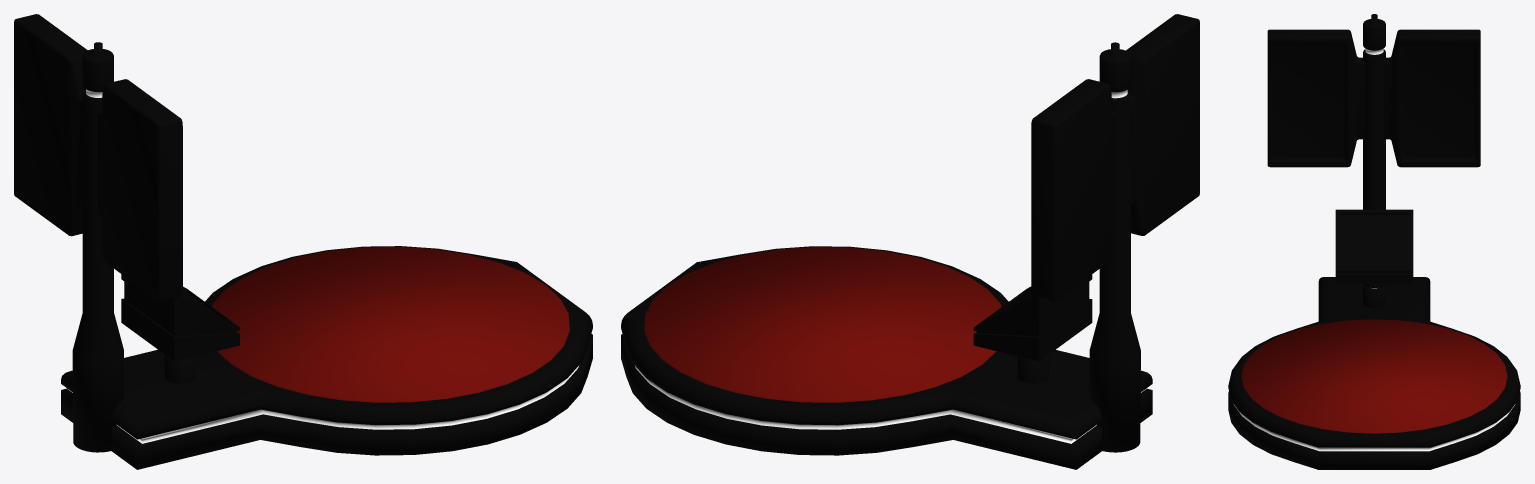
File: MurderConsole.fbx
3 renders of one model, left to right at view 1: azimuth 30°, elevation 25°; view 2: azimuth 150°, elevation 25°; view 3: azimuth 270°, elevation 25°, orthographic. The views are drawn at different scales.
Parts seen in each view (by area): view 1: Cube.006; view 2: Cube.006; view 3: Cube.006.
Boxes of the visible parts, <box> form: Cube.006: <box>14,14,592,469</box>; Cube.006: <box>621,14,1199,469</box>; Cube.006: <box>1228,14,1520,469</box>.
Bounding box in the file's own units: 554 × 440 × 400.
Materials: 1 (1 with a texture image).
